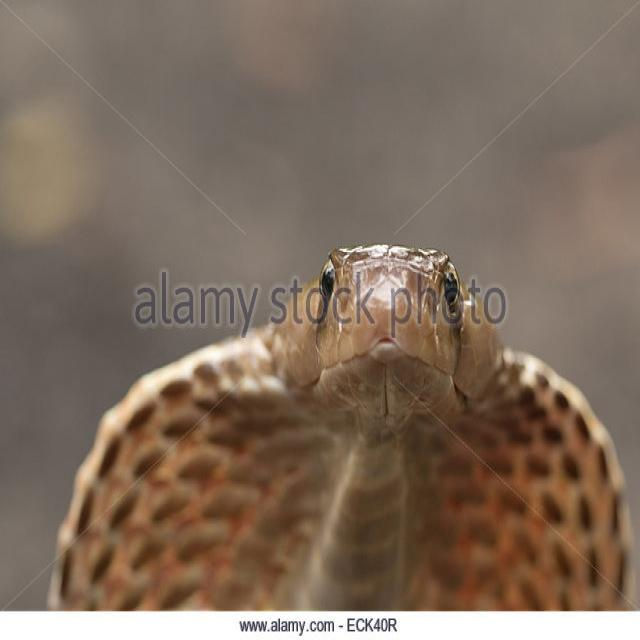Snake: (46, 240, 636, 612)
